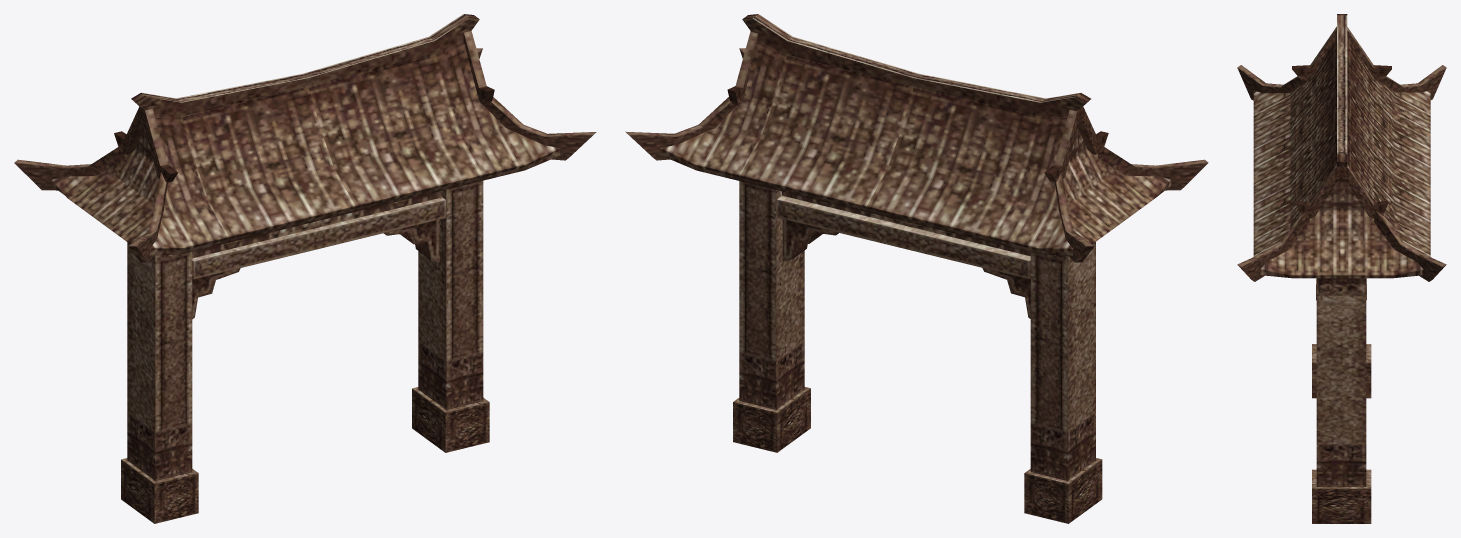
The model's file is general_obj_stonedoor.fbx.
The picture shows the model from 3 angles, left to right: view 1: azimuth 30°, elevation 25°; view 2: azimuth 150°, elevation 25°; view 3: azimuth 270°, elevation 25°; orthographic projection. The views are drawn at different scales.
Parts seen in each view (by area): view 1: Object05; view 2: Object05; view 3: Object05.
Part boxes in pixels (x1,y1,x2,y2): Object05: (14, 14, 596, 523); Object05: (625, 14, 1208, 523); Object05: (1237, 14, 1446, 523).
Size of the model in its own units: 11.16 by 9.44 by 4.89.
